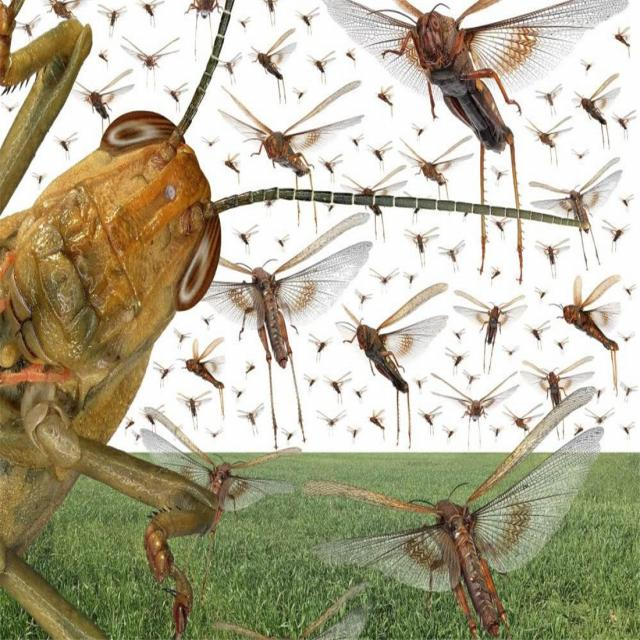ZhaMeng: (211, 80, 364, 237), (329, 272, 452, 459), (395, 1, 523, 172)
